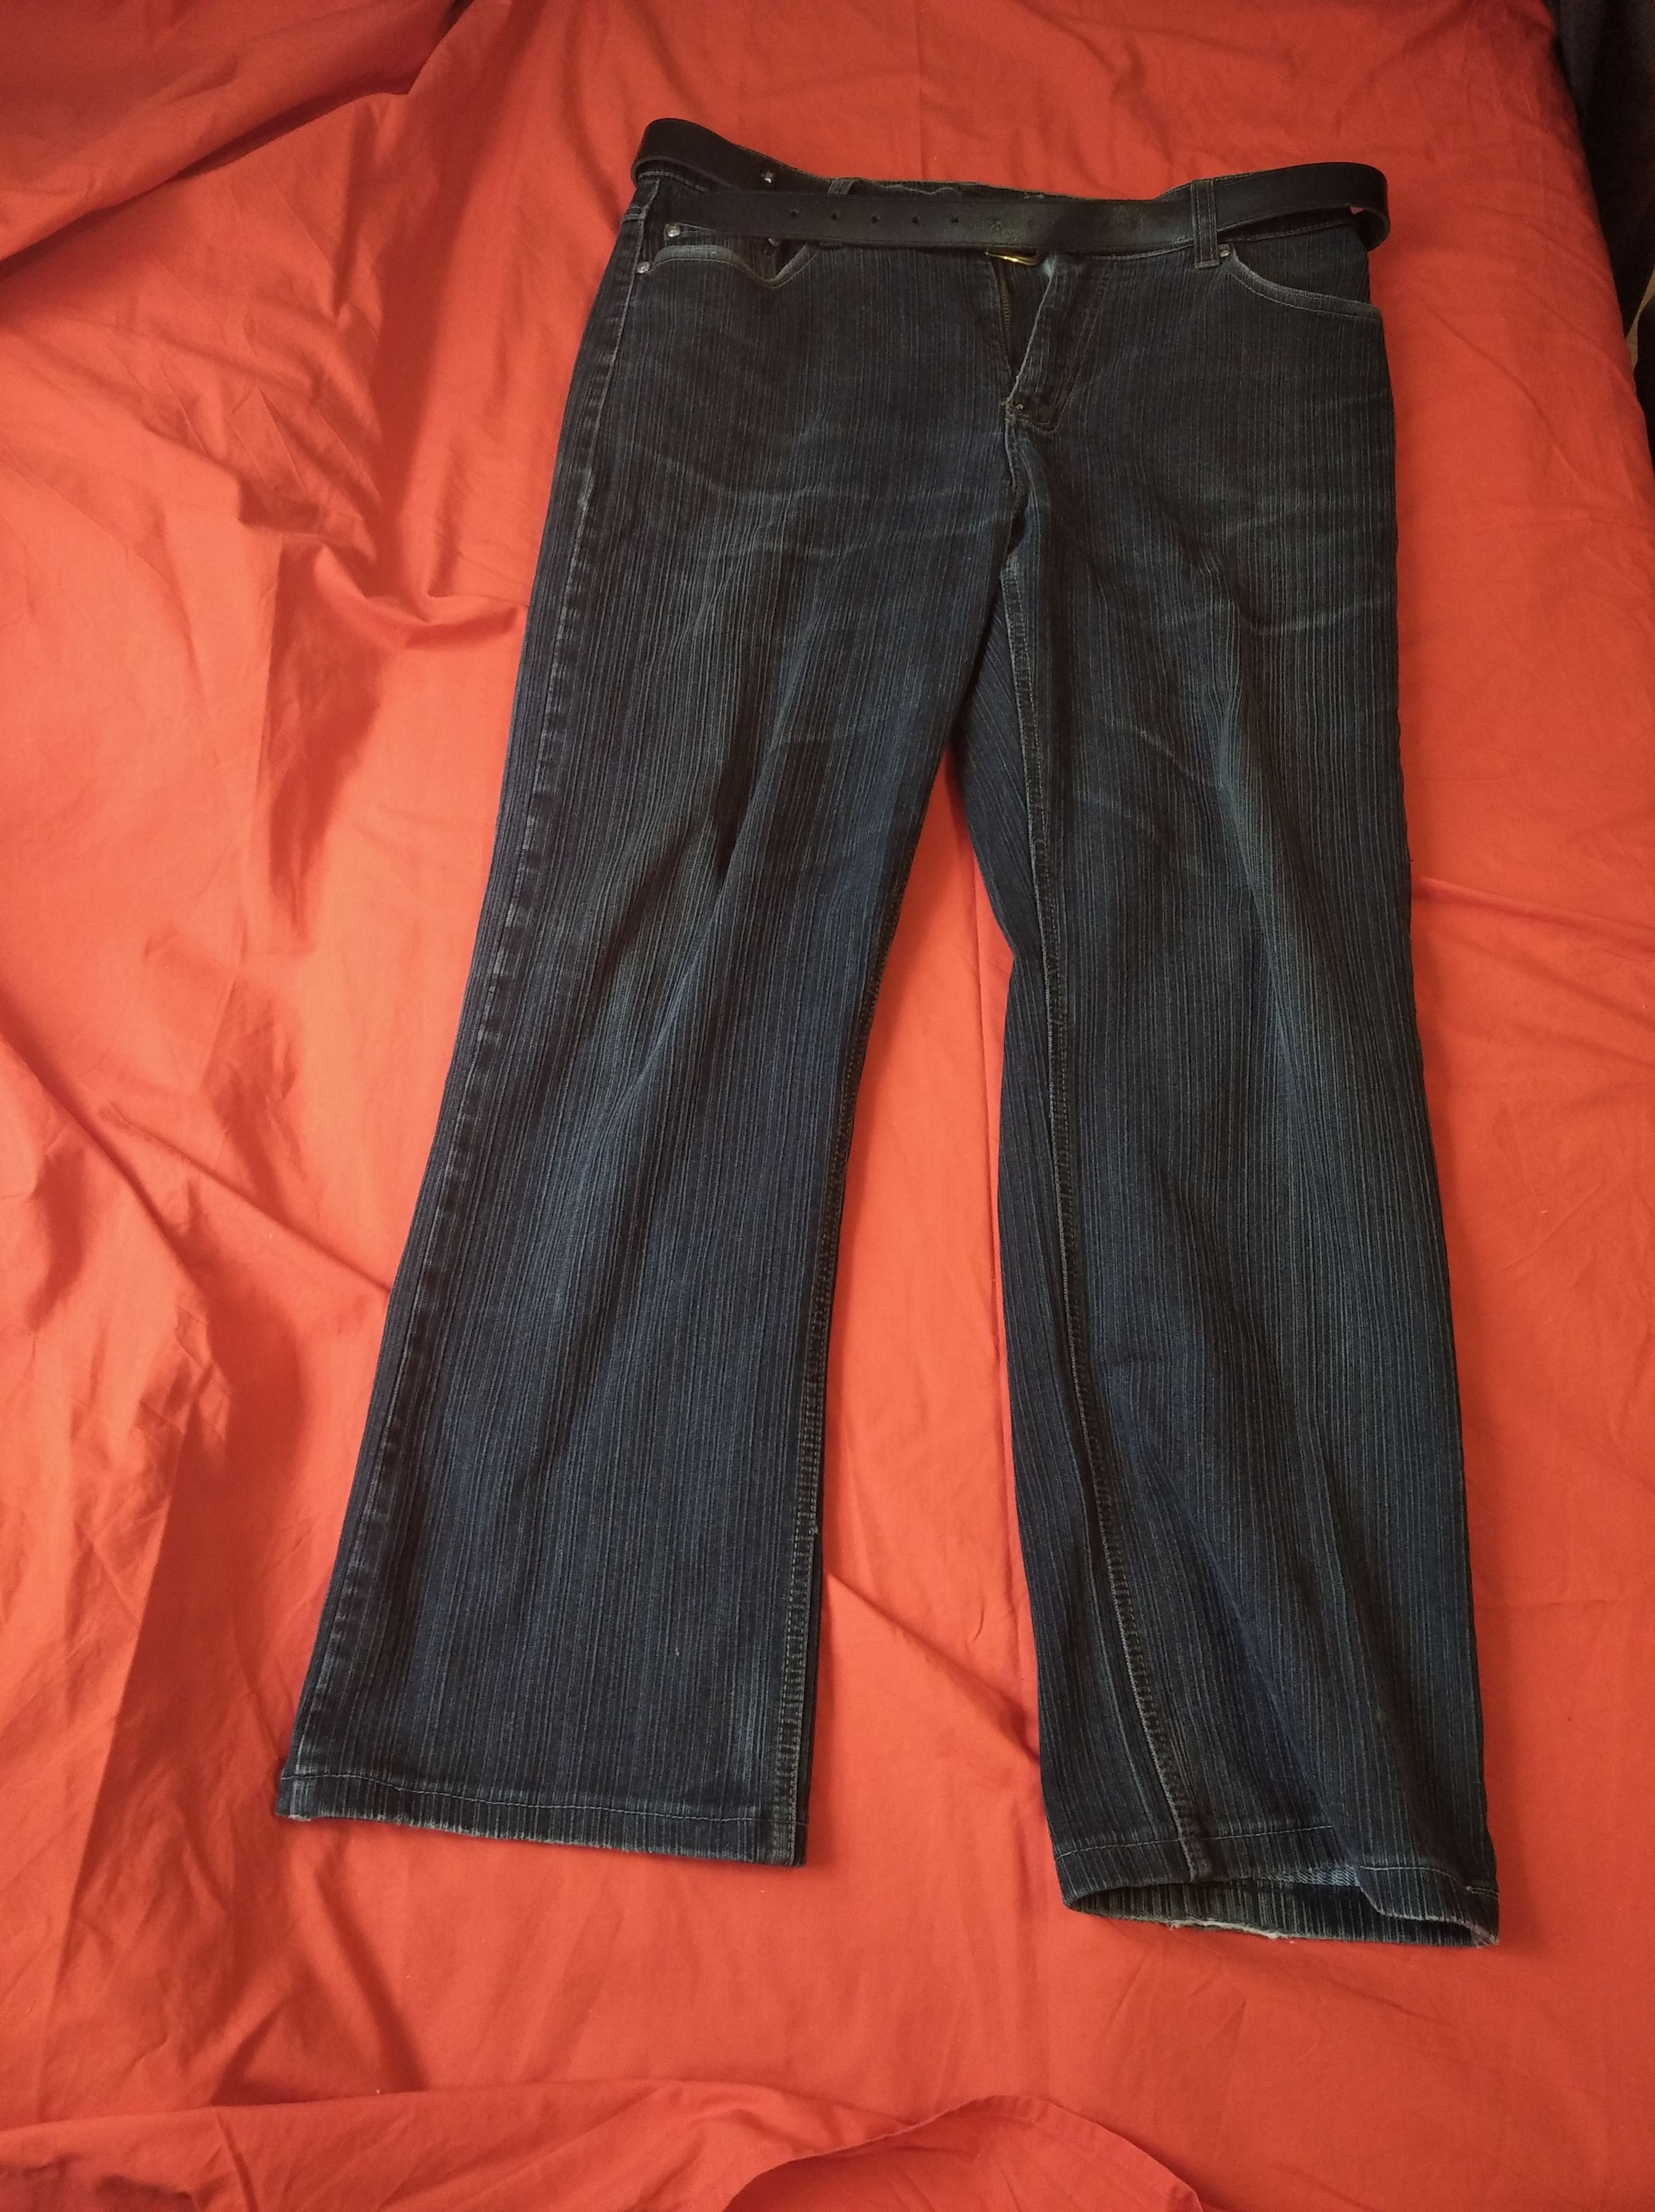clothes: (285, 120, 1492, 1955)
